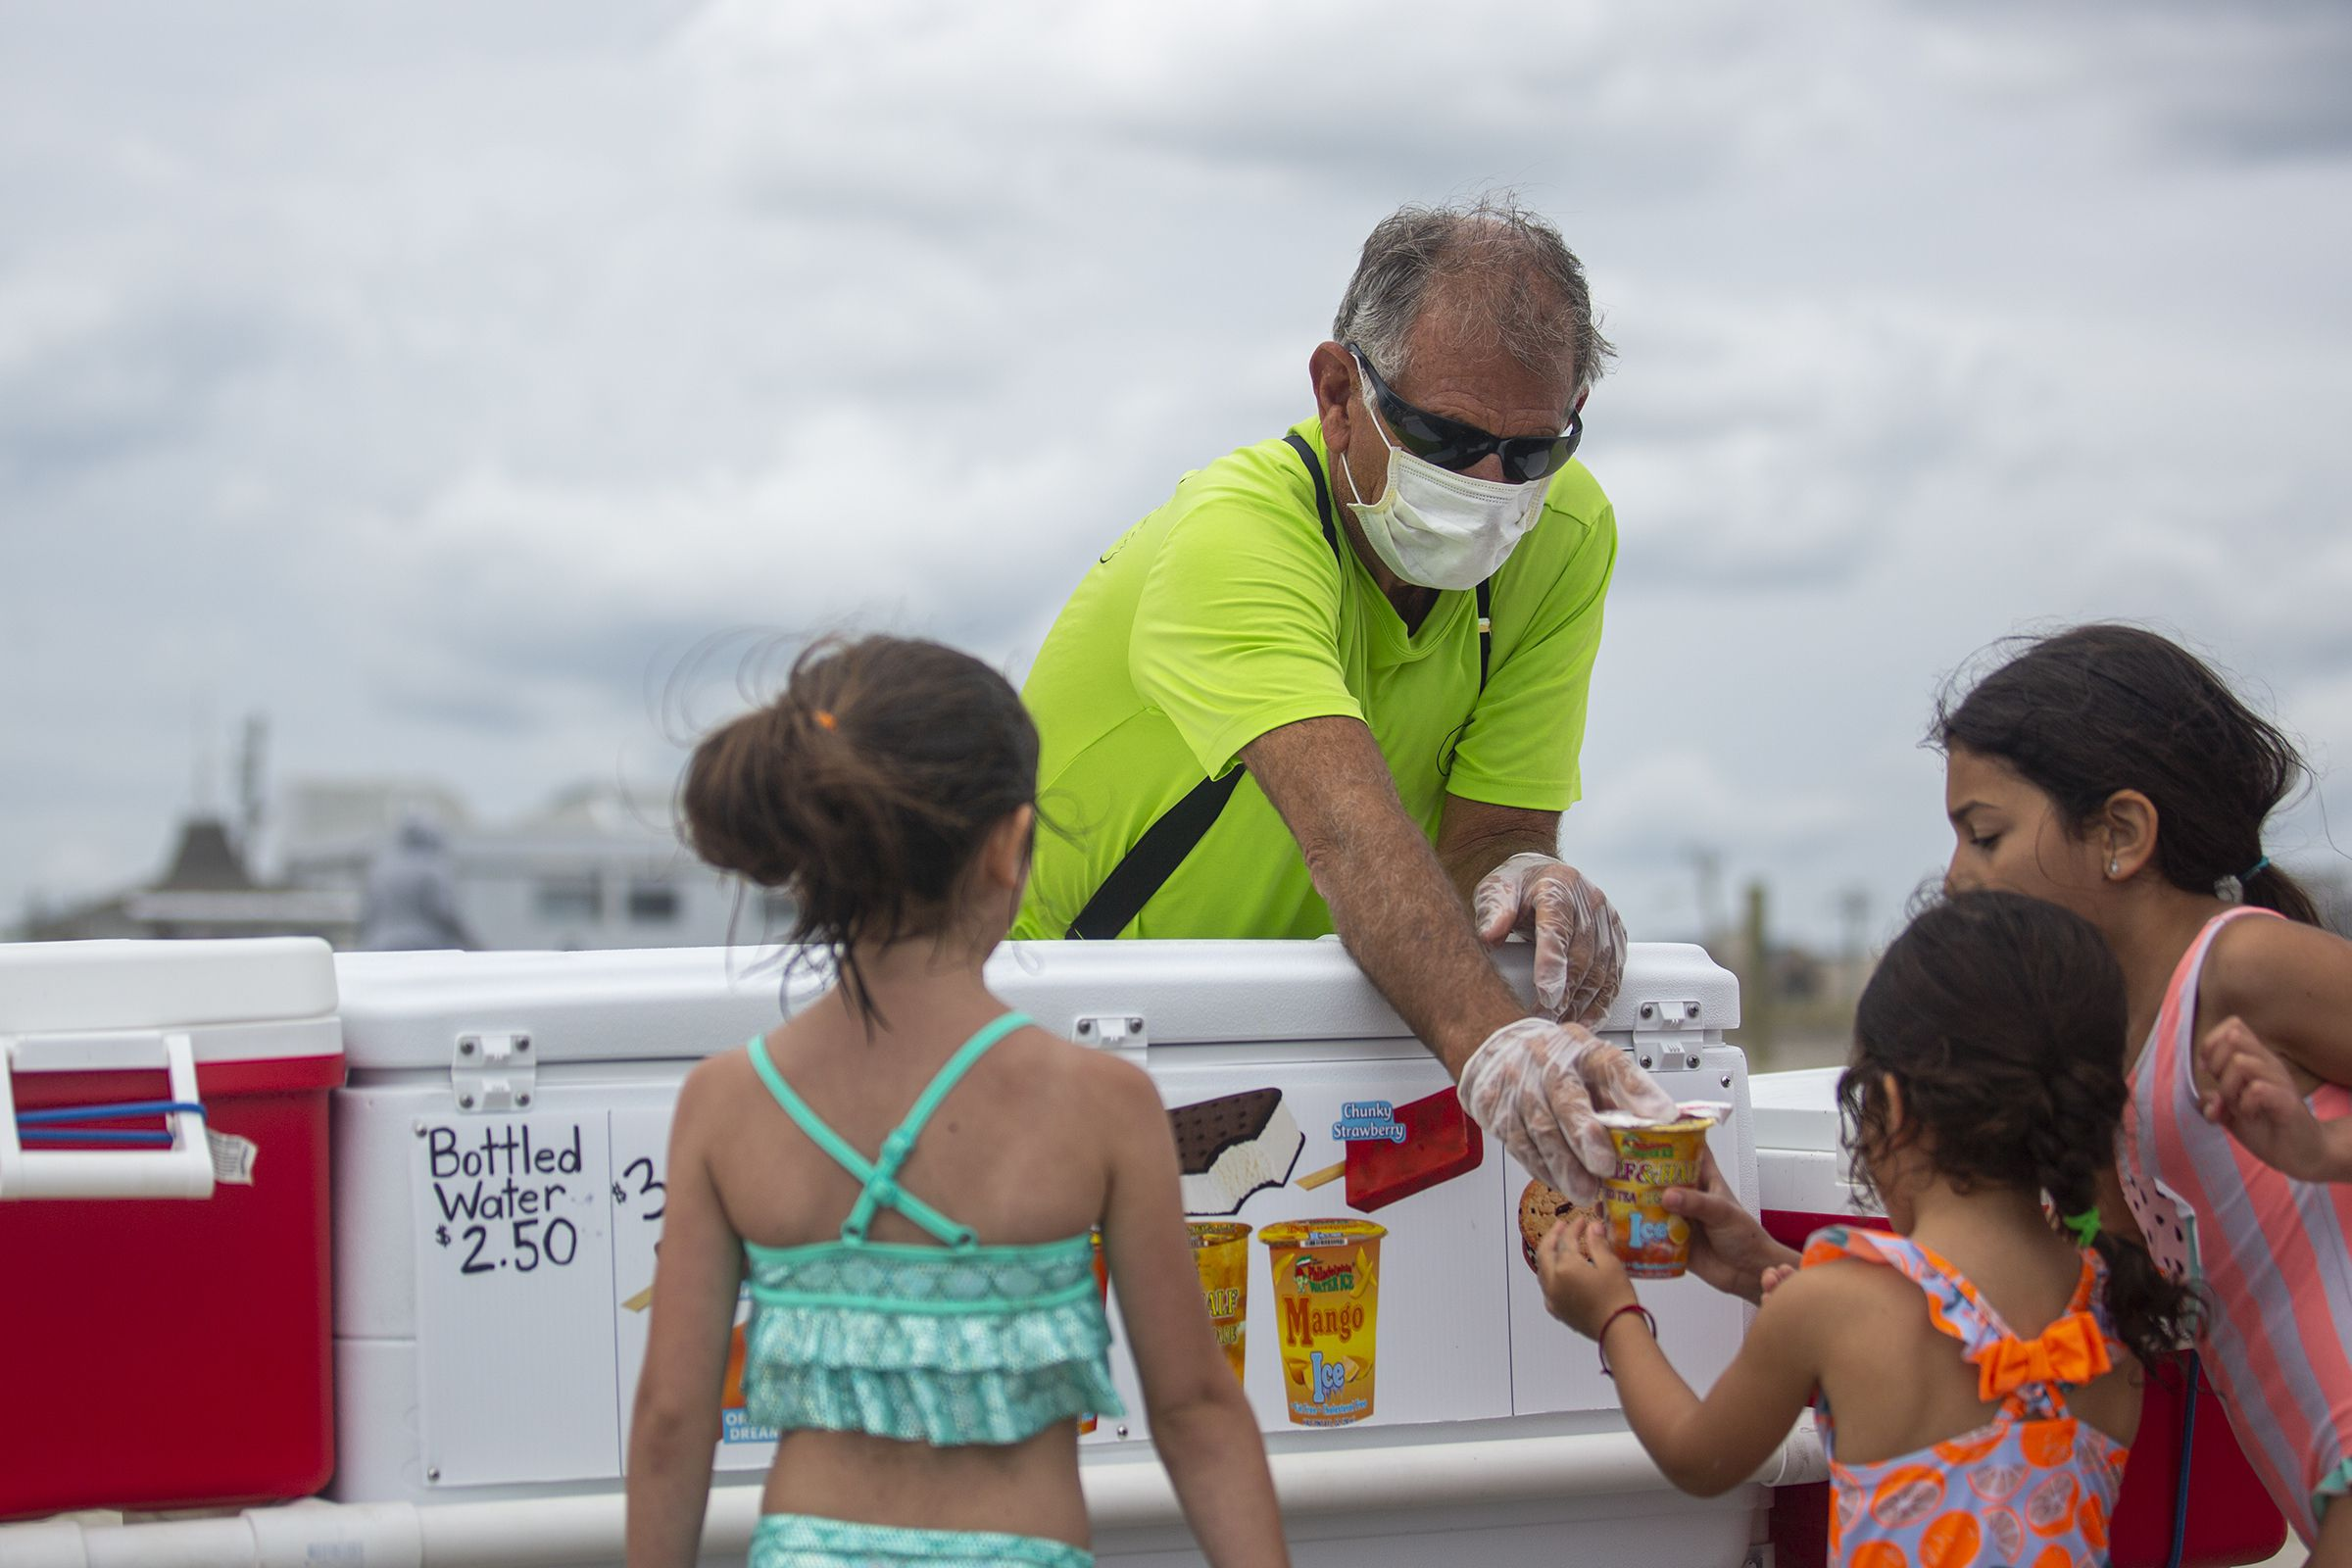with_mask: (1388, 348, 1548, 584)
